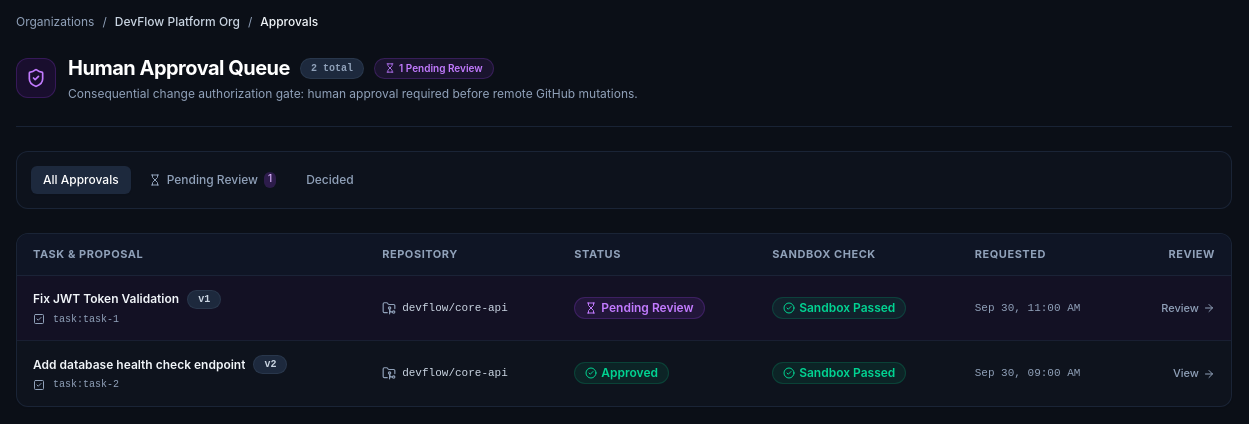
Scenario: ApprovalsPage › filters approvals by status tabs (PENDING vs DECIDED)
The width and height of the screenshot is (1249, 424).
Expected: the text "Fix JWT Token Validation" is shown, [33, 291, 179, 307]
Expected: the text "Add database health check endpoint" is shown, [33, 357, 245, 373]
Note: Click Pending Review tab
Click the button "Pending Review 1".
click(212, 180)  # box [137, 166, 288, 194]
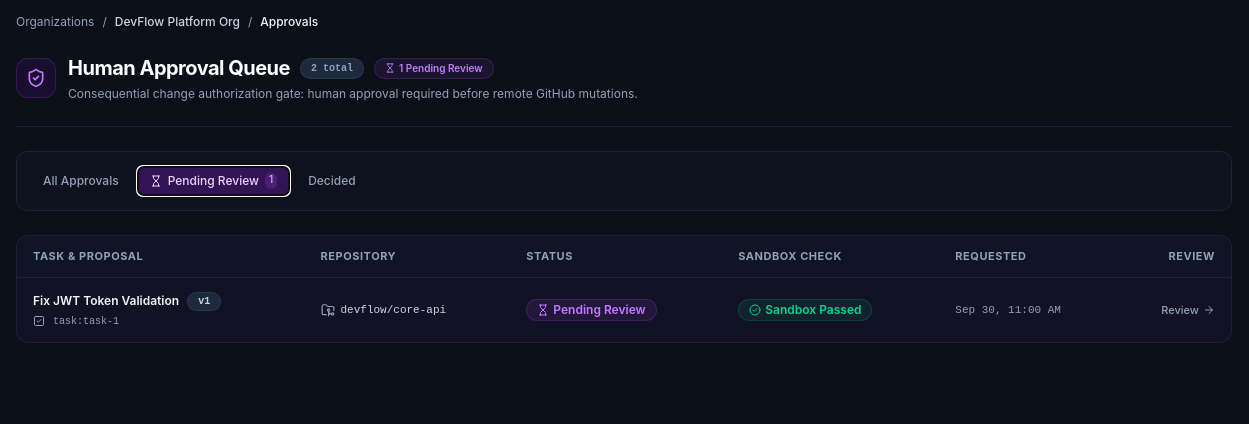
Expected: the text "Fix JWT Token Validation" is shown, [33, 293, 179, 309]
Result: the text "Add database health check endpoint" is gone
Note: Click Decided tab
Click the button "Decided".
click(332, 181)  # box [296, 167, 368, 195]
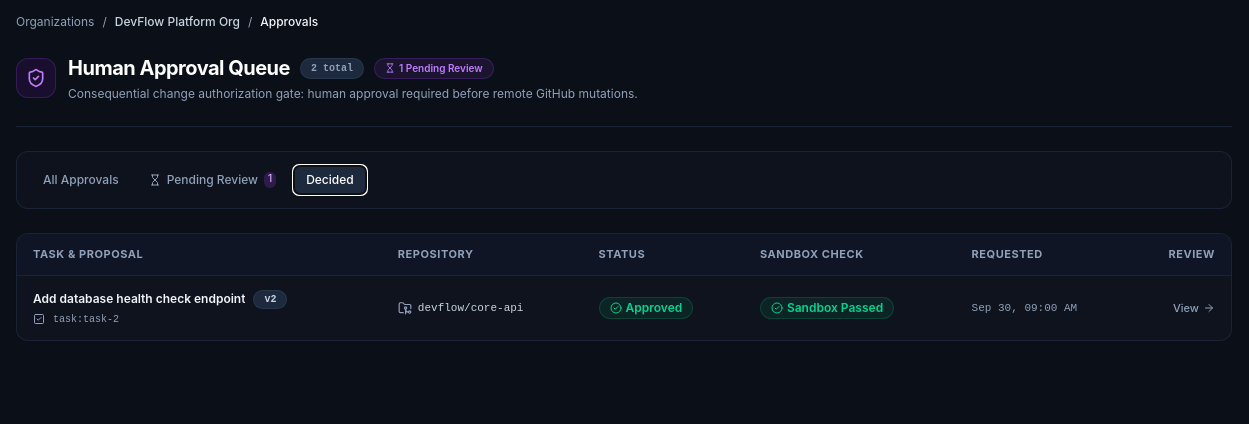
Result: the text "Fix JWT Token Validation" is gone
Result: the text "Add database health check endpoint" is shown at [33, 291, 245, 307]
